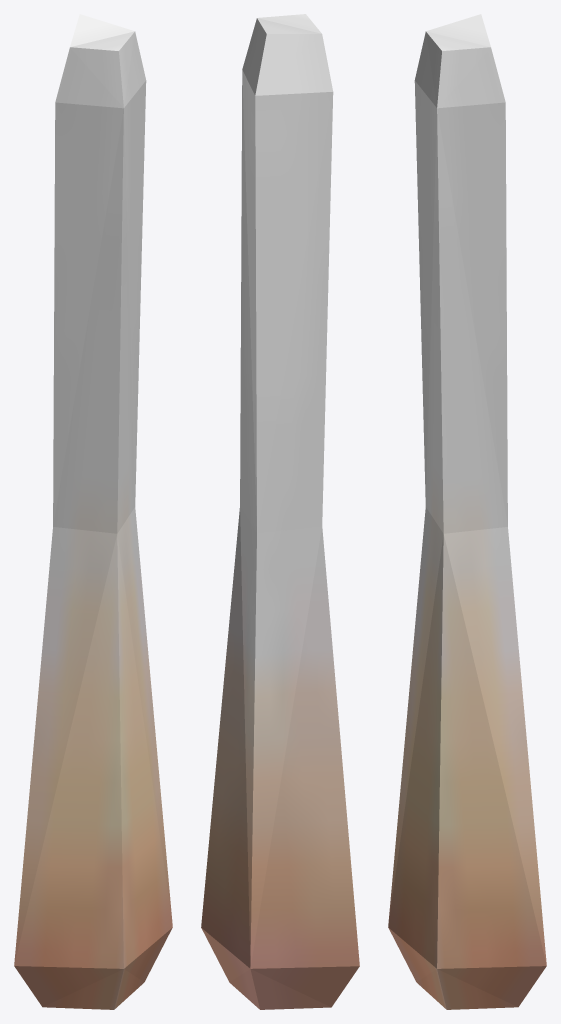
File: vaca_cola2.obj
3 views of the same model, side by side, from view 1: azimuth 30°, elevation 25°; view 2: azimuth 150°, elevation 25°; view 3: azimuth 330°, elevation 25° (orthographic).
Visible parts, largest first — view 1: cola.002; view 2: cola.002; view 3: cola.002.
Part boxes in pixels (x1=…): cola.002: x1=14, y1=14, x2=172, y2=1009; cola.002: x1=201, y1=14, x2=359, y2=1009; cola.002: x1=388, y1=14, x2=546, y2=1009.
Size of the model in its own units: 0.1368 by 0.7994 by 0.0902.
